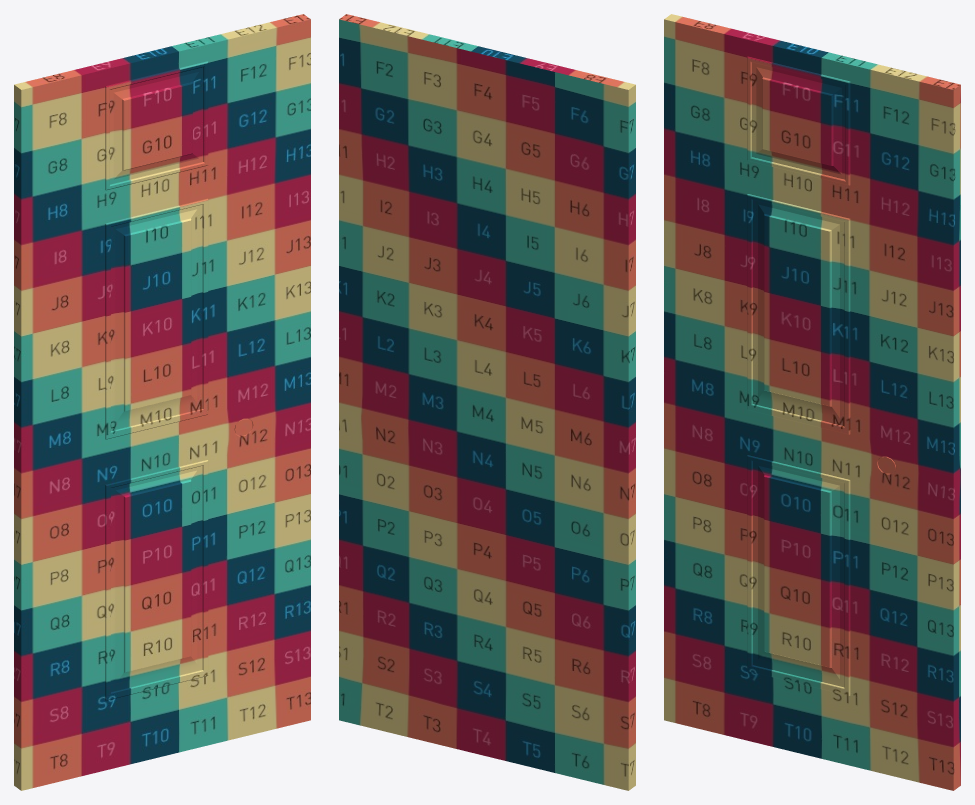
The model's file is closet_door.fbx.
3 views of the same model, side by side, from view 1: azimuth 30°, elevation 25°; view 2: azimuth 150°, elevation 25°; view 3: azimuth 330°, elevation 25° (orthographic).
Parts seen in each view (by area): view 1: polySurface691; view 2: polySurface691; view 3: polySurface691.
Boxes of the visible parts, x1,y1,x2,y2 form: polySurface691: (14,14,310,790); polySurface691: (339,14,635,790); polySurface691: (664,14,960,790).
Size of the model in its own units: 101 by 234 by 5.63.
